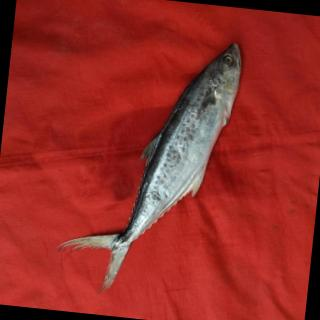Ikan: (83, 20, 256, 305)
